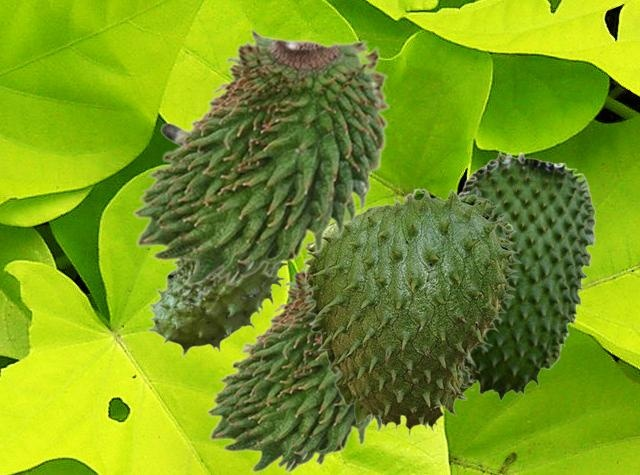guyabano: (131, 26, 390, 285), (303, 187, 521, 436), (205, 256, 382, 472), (145, 122, 290, 357), (459, 151, 595, 400)
